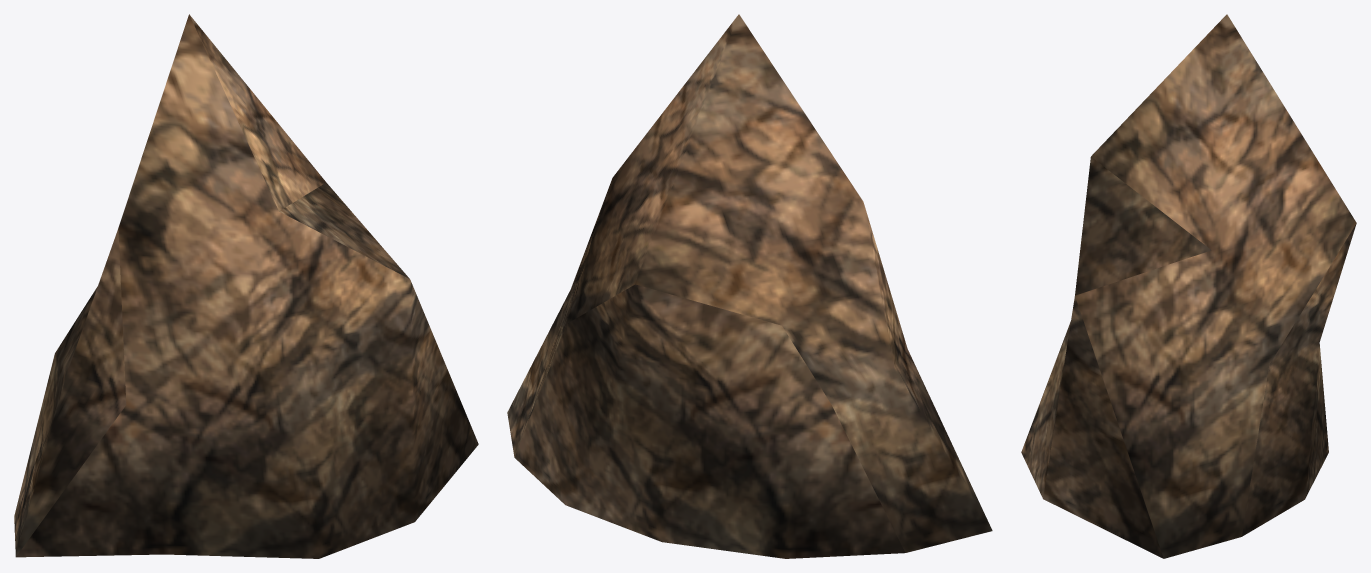
File: RockWall2.fbx
The picture shows the model from 3 angles, left to right: view 1: azimuth 30°, elevation 25°; view 2: azimuth 150°, elevation 25°; view 3: azimuth 270°, elevation 25°; orthographic projection. The views are drawn at different scales.
Parts seen in each view (by area): view 1: Icosphere.003; view 2: Icosphere.003; view 3: Icosphere.003.
Part boxes in pixels (<box>): Icosphere.003: <box>14,14,478,558</box>; Icosphere.003: <box>507,14,992,558</box>; Icosphere.003: <box>1021,14,1356,558</box>.
Bounding box in the file's own units: 259 × 250 × 176.
